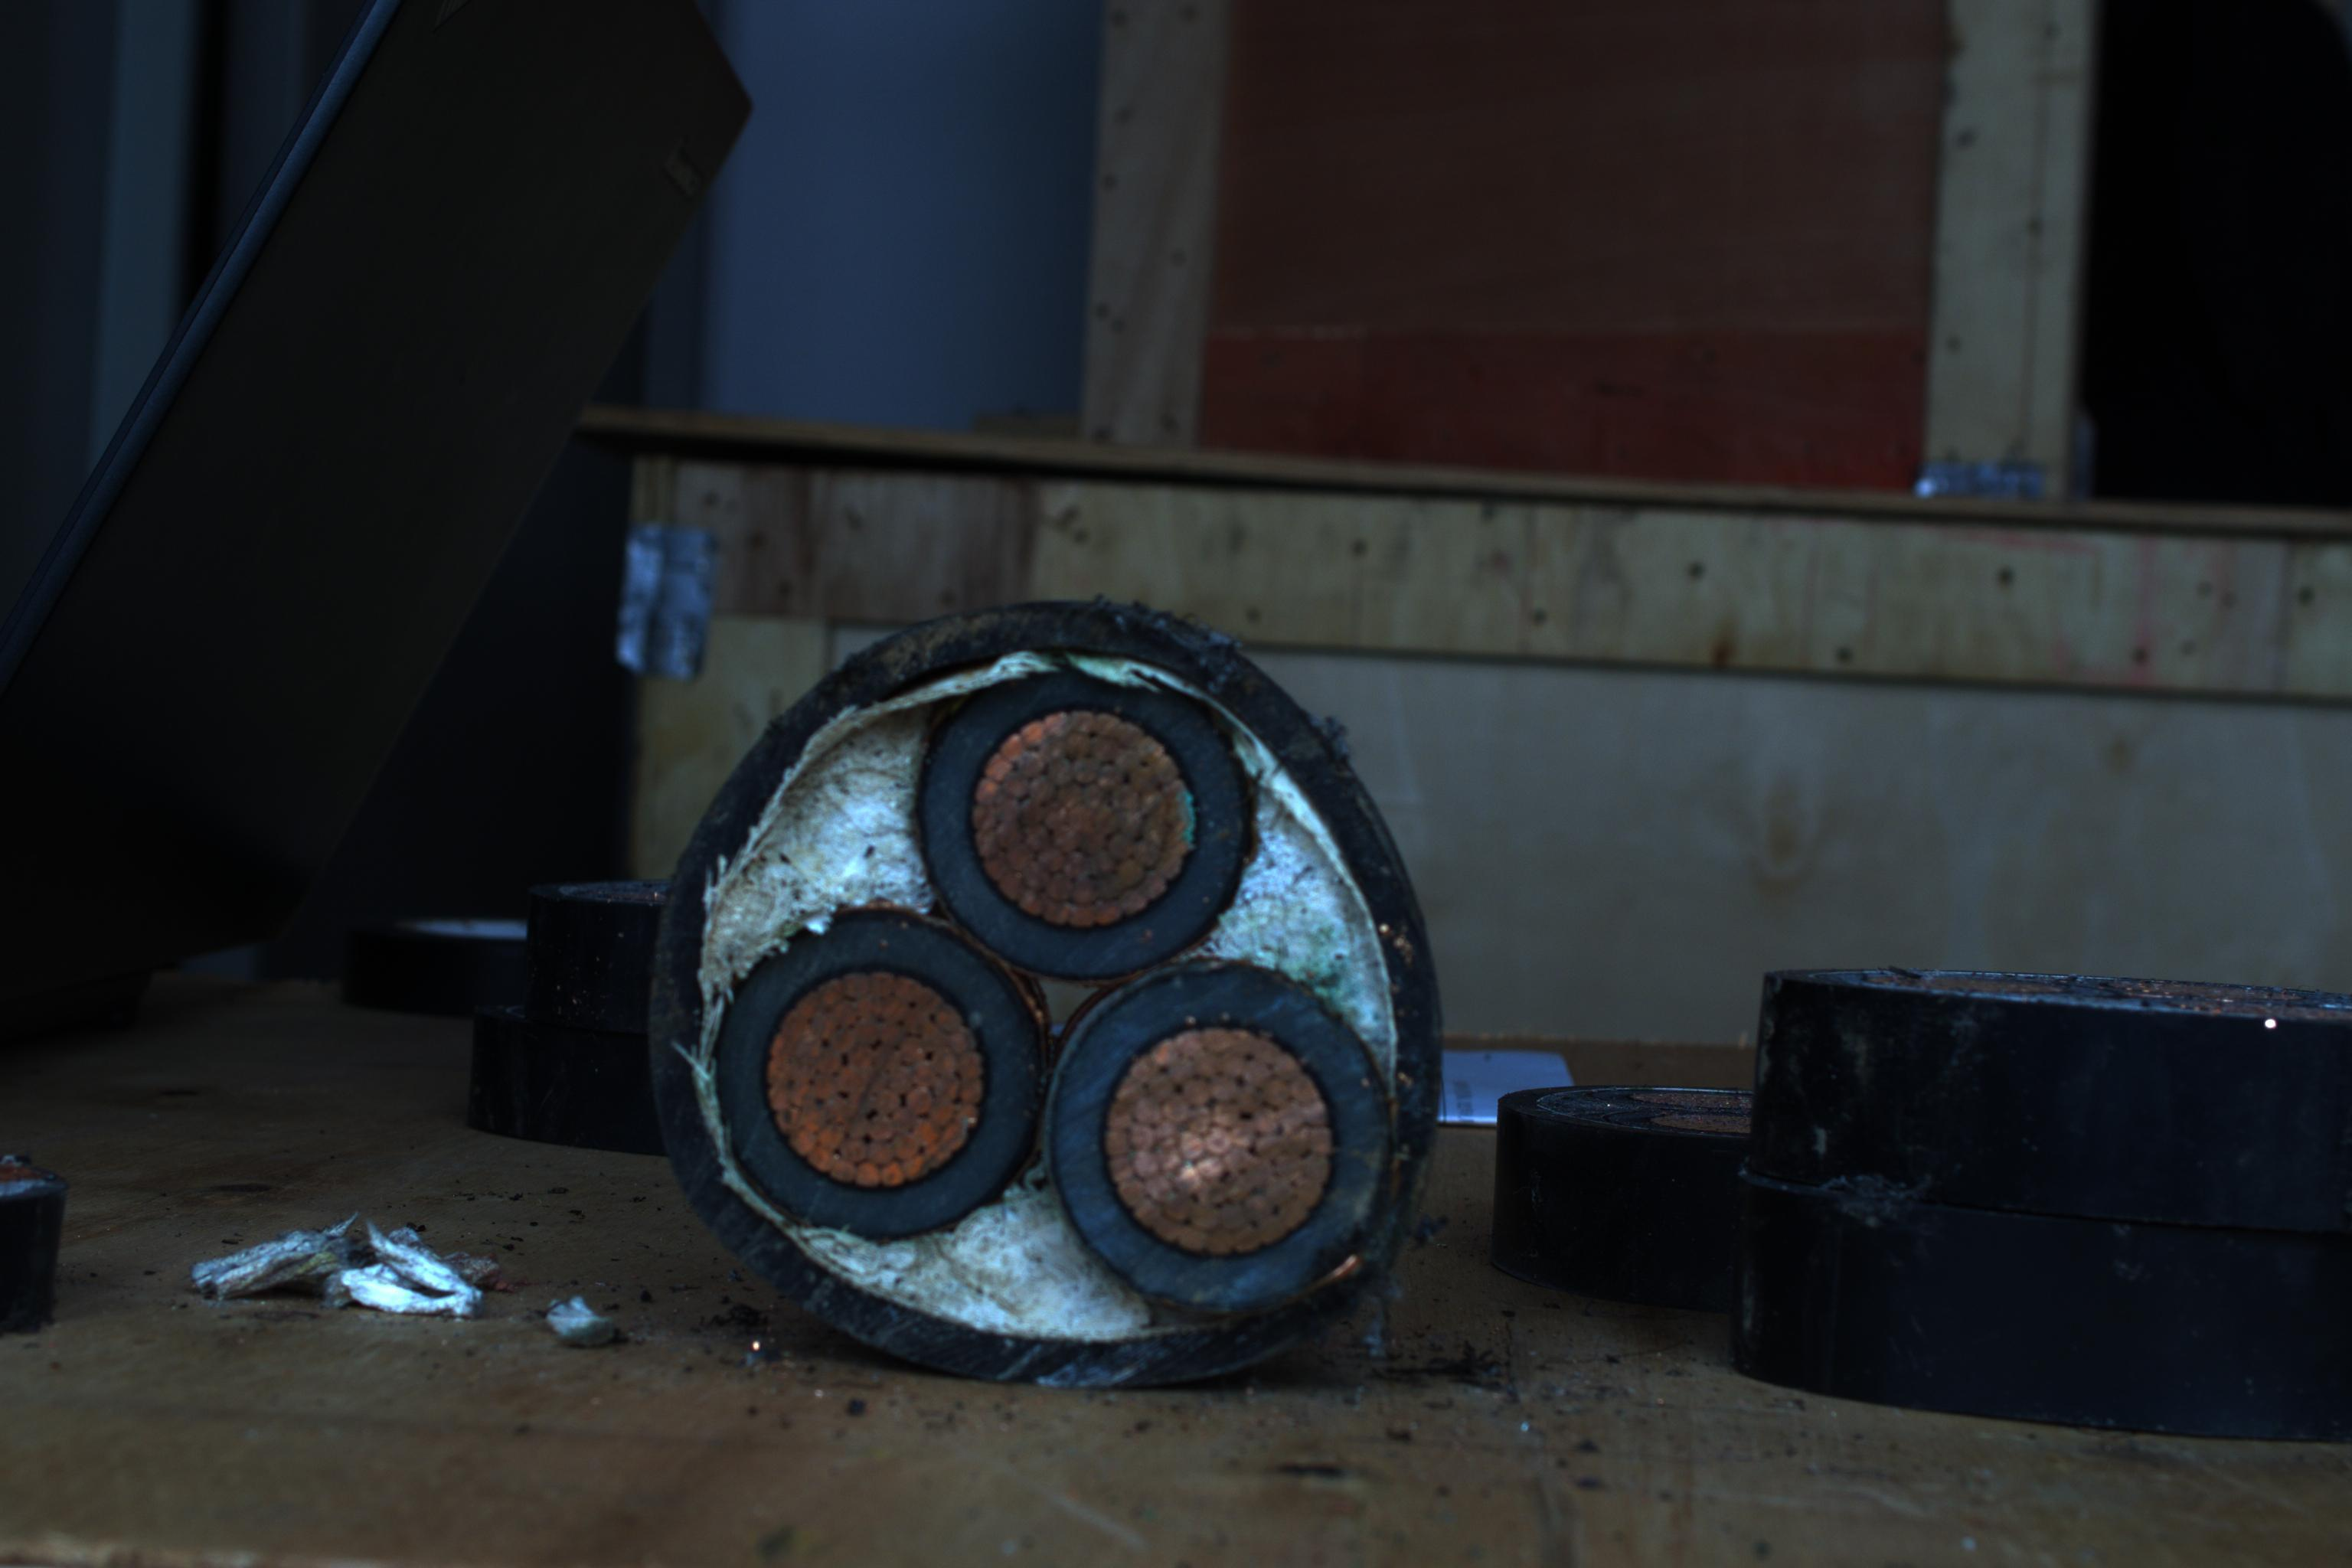ZA_YJV_8.7_10kV_3x400: (661, 630, 1437, 1360)
